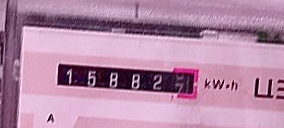1: (62, 64, 73, 83)
2: (149, 71, 162, 90)
5: (83, 67, 96, 85)
7: (171, 80, 183, 92)
8: (104, 68, 118, 86), (127, 70, 140, 89)
screen: (46, 50, 204, 105)
